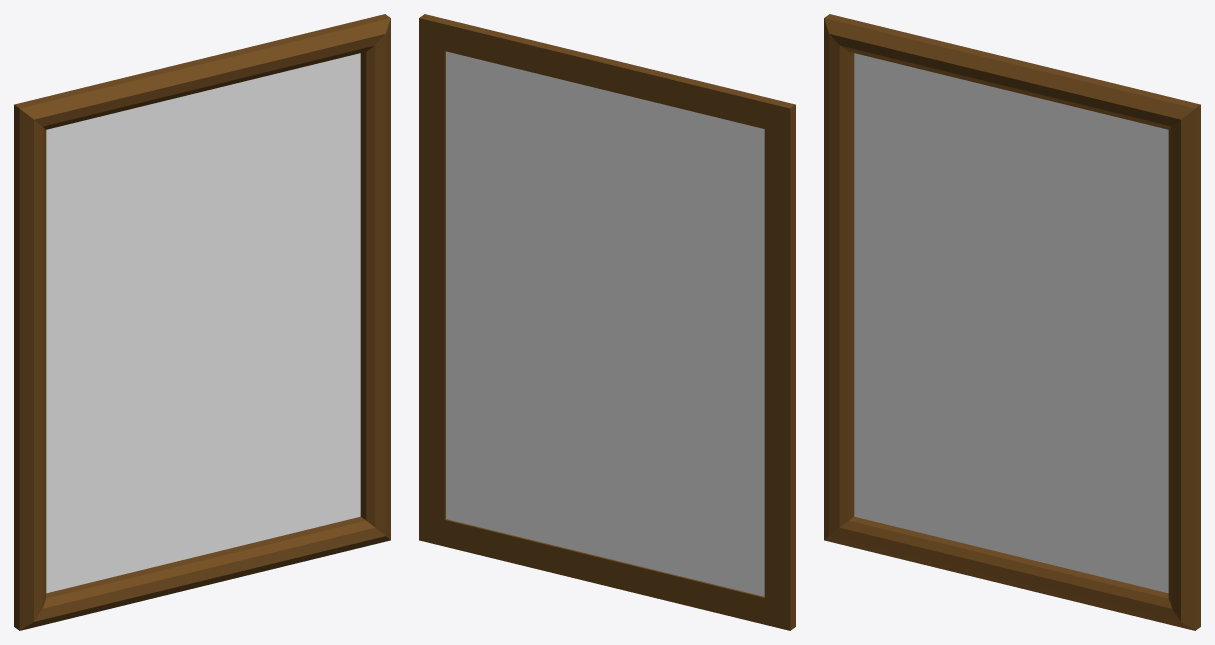
The model's file is tablo.obj.
3 renders of one model, left to right at view 1: azimuth 30°, elevation 25°; view 2: azimuth 150°, elevation 25°; view 3: azimuth 330°, elevation 25°, orthographic.
Parts seen in each view (by area): view 1: Tuval, Cerceve; view 2: Tuval, Cerceve; view 3: Tuval, Cerceve.
Boxes of the visible parts, <box> form: Tuval: <box>46,53,360,593</box>; Cerceve: <box>14,14,390,630</box>; Tuval: <box>446,51,764,596</box>; Cerceve: <box>419,14,795,630</box>; Tuval: <box>854,53,1168,593</box>; Cerceve: <box>824,14,1200,630</box>.
Size of the model in its own units: 1.16 by 1.56 by 0.055.
